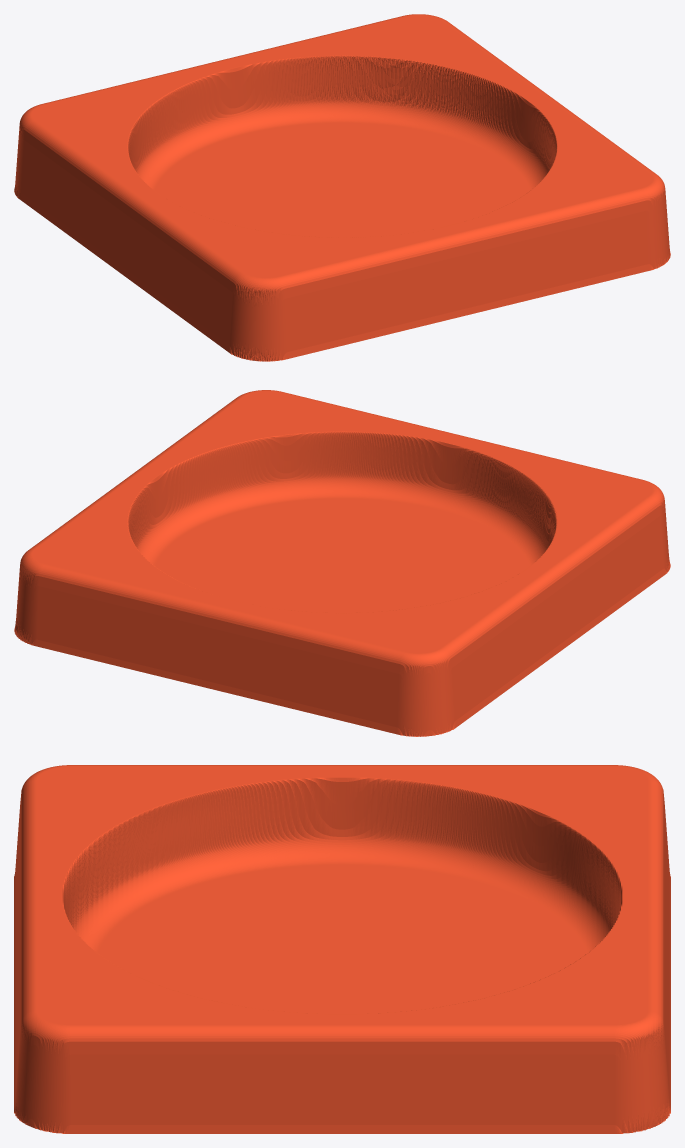
The model's file is mold.glb.
3 renders of one model, top to bottom at view 1: azimuth 30°, elevation 25°; view 2: azimuth 150°, elevation 25°; view 3: azimuth 270°, elevation 25°, orthographic. The views are drawn at different scales.
Parts seen in each view (by area): view 1: geometry_0; view 2: geometry_0; view 3: geometry_0.
Boxes of the visible parts, left/top/right/bottom form: geometry_0: left=14, top=14, right=670, bottom=361; geometry_0: left=14, top=390, right=670, bottom=736; geometry_0: left=14, top=765, right=670, bottom=1133.
Bounding box in the file's own units: 0.105 × 0.0175 × 0.105.
